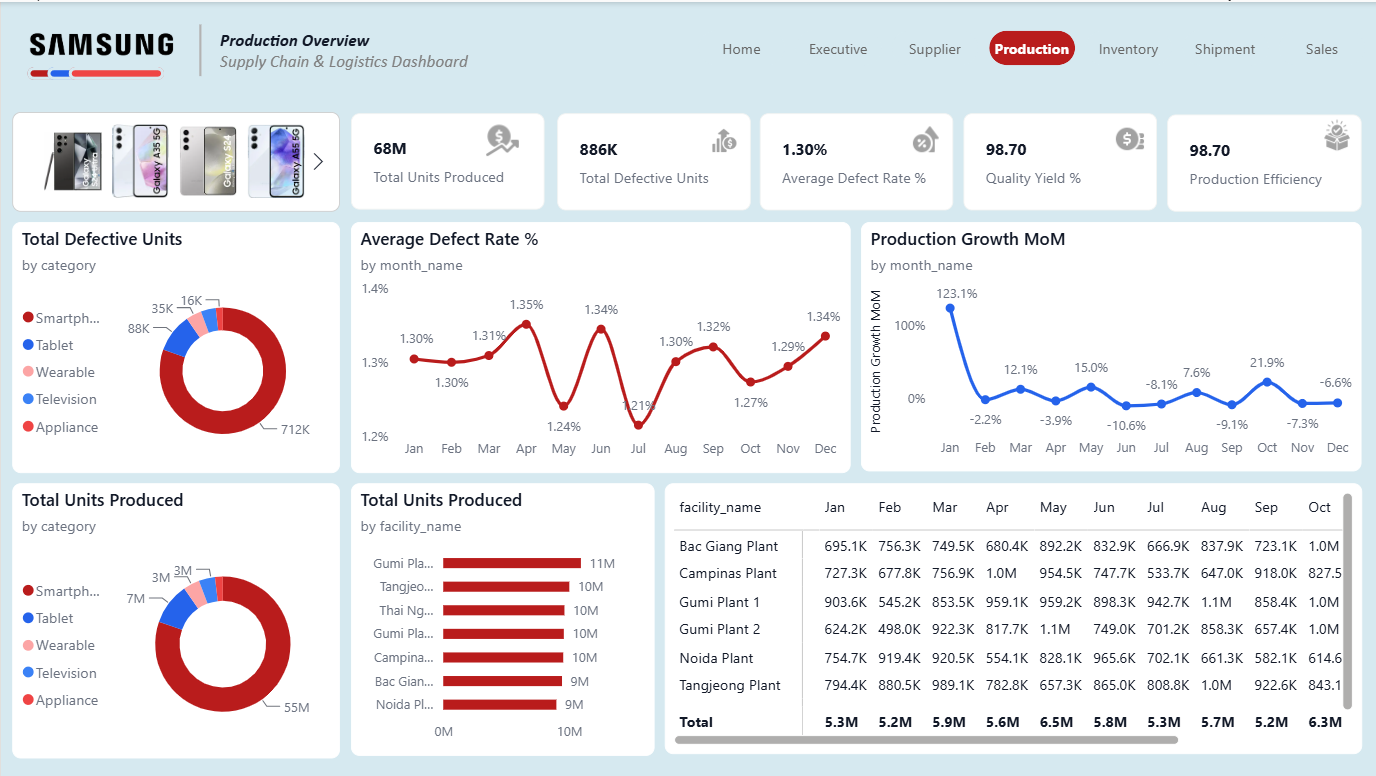

Layout of this report page (visuals, bound fields, positions):
{"tool":"powerbi","page":{"name":"Production","canvas":[1280,720],"ordinal":3},"visuals":[{"type":"lineChart","fields":{"Y":["MeasureTable.Average Defect Rate %"],"Category":["dim_date.month_name"]},"box":[325.1,204.6,464.4,233.5],"z":0},{"type":"lineChart","fields":{"Y":["MeasureTable.Production Growth MoM"],"Category":["dim_date.month_name"]},"box":[799.5,204.6,465.7,232.2],"z":1000},{"type":"clusteredBarChart","fields":{"Category":["dim_facility.facility_name"],"Y":["MeasureTable.Total Units Produced"]},"box":[325.1,448.1,282.4,253.5],"z":2000},{"type":"pivotTable","fields":{"Values":["MeasureTable.Formatted_Total Units Produced"],"Rows":["dim_facility.facility_name"],"Columns":["dim_date.month_name"]},"box":[617.5,448.1,648.9,252.3],"z":3000},{"type":"cardVisual","fields":{"Data":["MeasureTable.Production Efficiency"]},"box":[1084.5,104.2,180.7,90.4],"z":4000},{"type":"cardVisual","fields":{"Data":["MeasureTable.Total Units Produced"]},"box":[325,103.6,179.8,89.3],"z":5000},{"type":"cardVisual","fields":{"Data":["MeasureTable.Average Defect Rate %"]},"box":[706.3,103.8,180,90],"z":6000},{"type":"cardVisual","fields":{"Data":["MeasureTable.Quality Yield %"]},"box":[895.4,103.8,180,90],"z":7000},{"type":"cardVisual","fields":{"Data":["MeasureTable.Total Defective Units"]},"box":[517.2,103.8,180,90],"z":8000},{"type":"image","box":[446.4,108.3,40.5,40.5],"z":9000},{"type":"image","box":[657.1,111.9,32.1,34.5],"z":10000},{"type":"image","box":[840.5,108.3,39.3,39.3],"z":11000},{"type":"image","box":[1031.8,106.7,38,40.5],"z":12000},{"type":"image","box":[1222.9,103.4,39.2,40.5],"z":13000},{"type":"advancedSlicerVisual","fields":{"Values":["dim_product.Img"]},"box":[10.7,102.4,304.8,92.9],"z":14000},{"type":"donutChart","fields":{"Category":["dim_product.category"],"Y":["MeasureTable.Total Units Produced"]},"box":[10.7,447.6,304.8,256],"z":15000},{"type":"donutChart","fields":{"Category":["dim_product.category"],"Y":["MeasureTable.Total Defective Units"]},"box":[10.7,204.8,304.8,233.3],"z":16000},{"type":"image","box":[11.3,15.1,158.1,47.7],"z":17000},{"type":"pageNavigator","box":[648.8,26.2,621.4,32.1],"z":18000},{"type":"shape","box":[156.9,21.5,56.9,48.1],"z":19000},{"type":"shape","box":[23.9,60,89.1,12],"z":20000},{"type":"shape","box":[42.7,60,89.1,12],"z":21000},{"type":"shape","box":[62.8,60,89.1,12],"z":22000},{"type":"textbox","box":[198.3,21.3,362.7,69],"z":23000}]}

Visuals, with their boxes in screenshot pixels (x1, y1, x2, y2), scaled from the page's 1280x720 canvas onto the 1376x776 screenshot:
lineChart - MeasureTable.Average Defect Rate % x dim_date.month_name: <region>349, 221, 849, 472</region>
lineChart - MeasureTable.Production Growth MoM x dim_date.month_name: <region>859, 221, 1360, 471</region>
clusteredBarChart - dim_facility.facility_name x MeasureTable.Total Units Produced: <region>349, 483, 653, 756</region>
pivotTable - MeasureTable.Formatted_Total Units Produced x dim_facility.facility_name: <region>664, 483, 1361, 755</region>
cardVisual - MeasureTable.Production Efficiency: <region>1166, 112, 1360, 210</region>
cardVisual - MeasureTable.Total Units Produced: <region>349, 112, 543, 208</region>
cardVisual - MeasureTable.Average Defect Rate %: <region>759, 112, 953, 209</region>
cardVisual - MeasureTable.Quality Yield %: <region>963, 112, 1156, 209</region>
cardVisual - MeasureTable.Total Defective Units: <region>556, 112, 749, 209</region>
image: <region>480, 117, 523, 160</region>
image: <region>706, 121, 741, 158</region>
image: <region>904, 117, 946, 159</region>
image: <region>1109, 115, 1150, 159</region>
image: <region>1315, 111, 1357, 155</region>
advancedSlicerVisual - dim_product.Img: <region>12, 110, 339, 210</region>
donutChart - dim_product.category x MeasureTable.Total Units Produced: <region>12, 482, 339, 758</region>
donutChart - dim_product.category x MeasureTable.Total Defective Units: <region>12, 221, 339, 472</region>
image: <region>12, 16, 182, 68</region>
pageNavigator: <region>697, 28, 1365, 63</region>
shape: <region>169, 23, 230, 75</region>
shape: <region>26, 65, 121, 78</region>
shape: <region>46, 65, 142, 78</region>
shape: <region>68, 65, 163, 78</region>
textbox: <region>213, 23, 603, 97</region>
